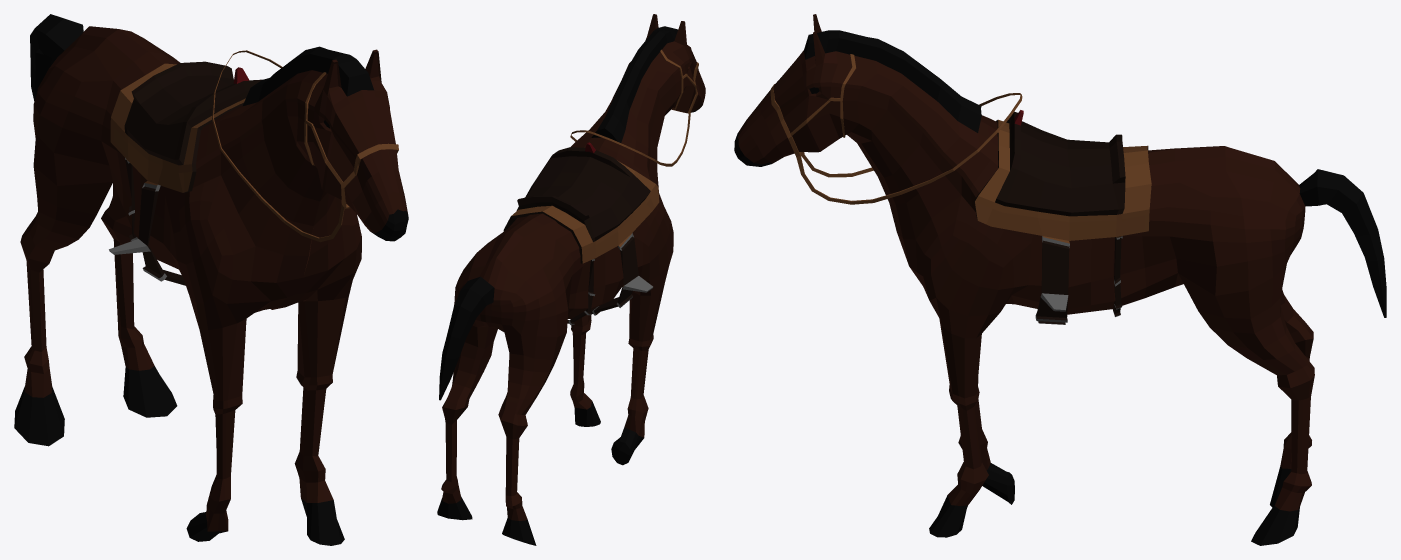
File: horse.obj
3 renders of one model, left to right at view 1: azimuth 30°, elevation 25°; view 2: azimuth 150°, elevation 25°; view 3: azimuth 270°, elevation 25°, orthographic. The views are drawn at different scales.
Parts seen in each view (by area): view 1: Mesh, Mesh.001, Mesh.003; view 2: Mesh, Mesh.001, Mesh.003; view 3: Mesh, Mesh.001, Mesh.003.
Boxes of the visible parts, x1,y1,x2,y2 form: Mesh: [14, 14, 408, 545]; Mesh.001: [109, 61, 261, 285]; Mesh.003: [212, 50, 398, 242]; Mesh: [437, 14, 705, 545]; Mesh.001: [503, 142, 659, 324]; Mesh.003: [570, 49, 698, 166]; Mesh: [734, 14, 1386, 545]; Mesh.001: [974, 110, 1151, 324]; Mesh.003: [770, 54, 1022, 204].
Bounding box in the file's own units: 0.9044 × 2.21 × 2.6.
